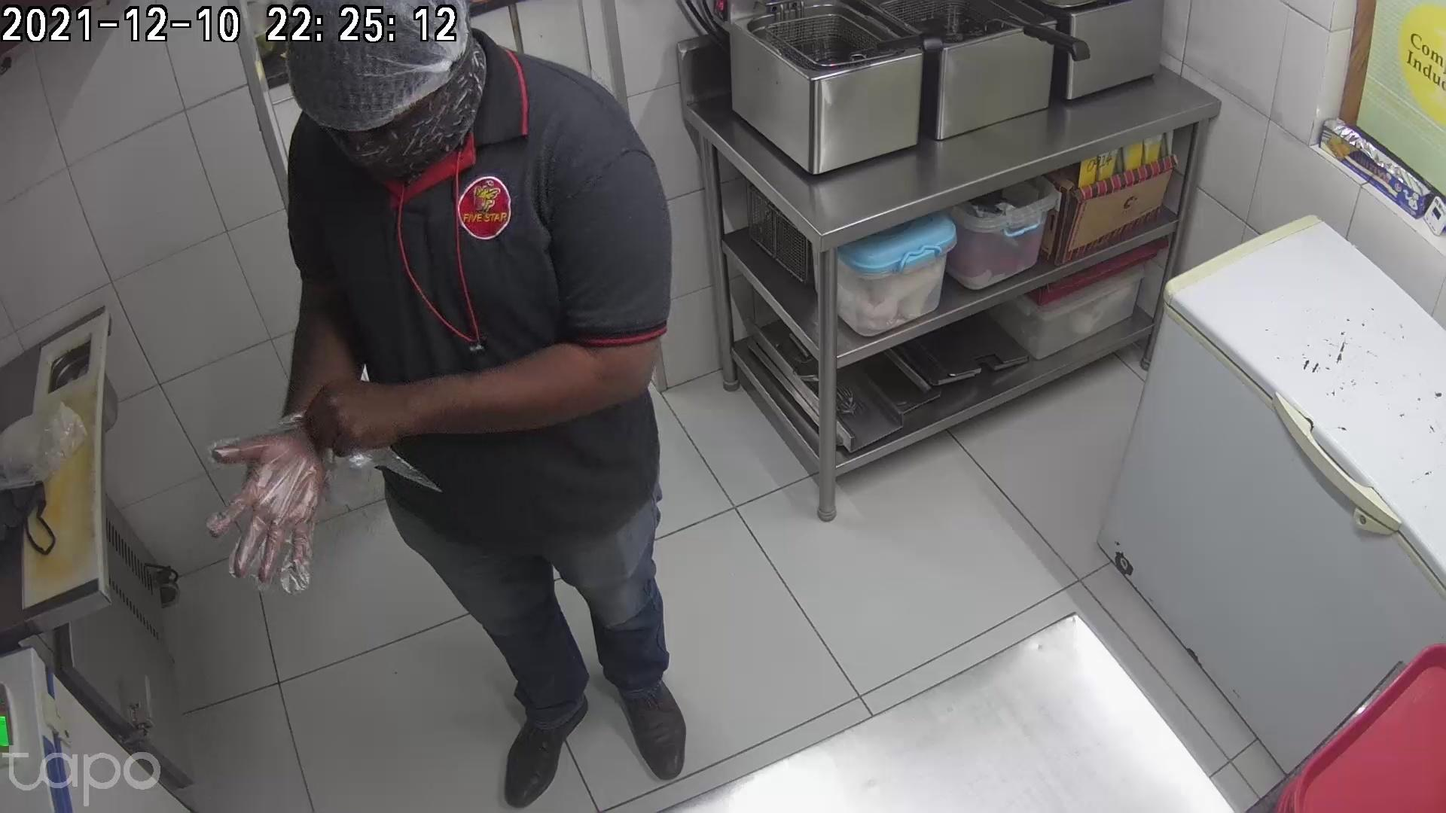gloves: (204, 420, 322, 582)
